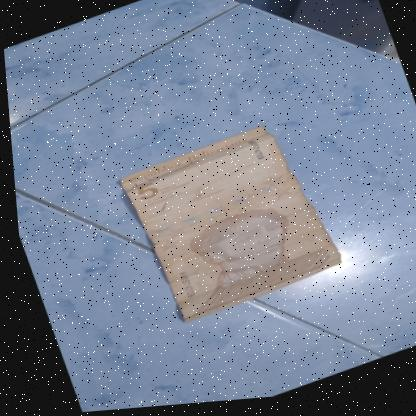vef_front: (110, 116, 342, 332)
